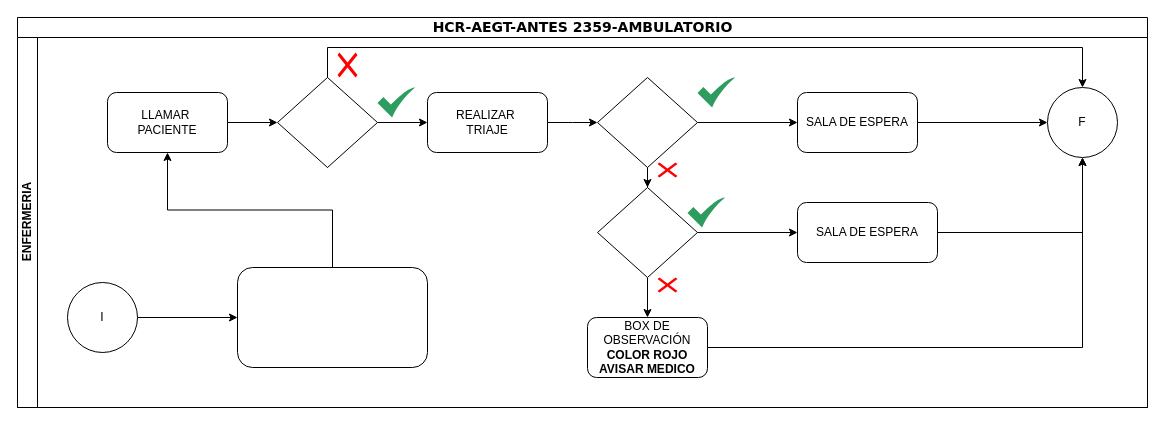
Image size: 1165x425. Some labels were removed from this diagram. Here are the shapes that lost their labels. From the top down, the centre of each, then its label:
At [327,122]: "ESTA PRESENTE".
At [647,122]: "ES VERDE".
At [647,232]: "ES AMARILLO".
At [332,317]: "RECEPCIONAR PACIENTES ANOTAR MOTIVO DE CONSULTA REFERIDO POR EL PACIENTE".
